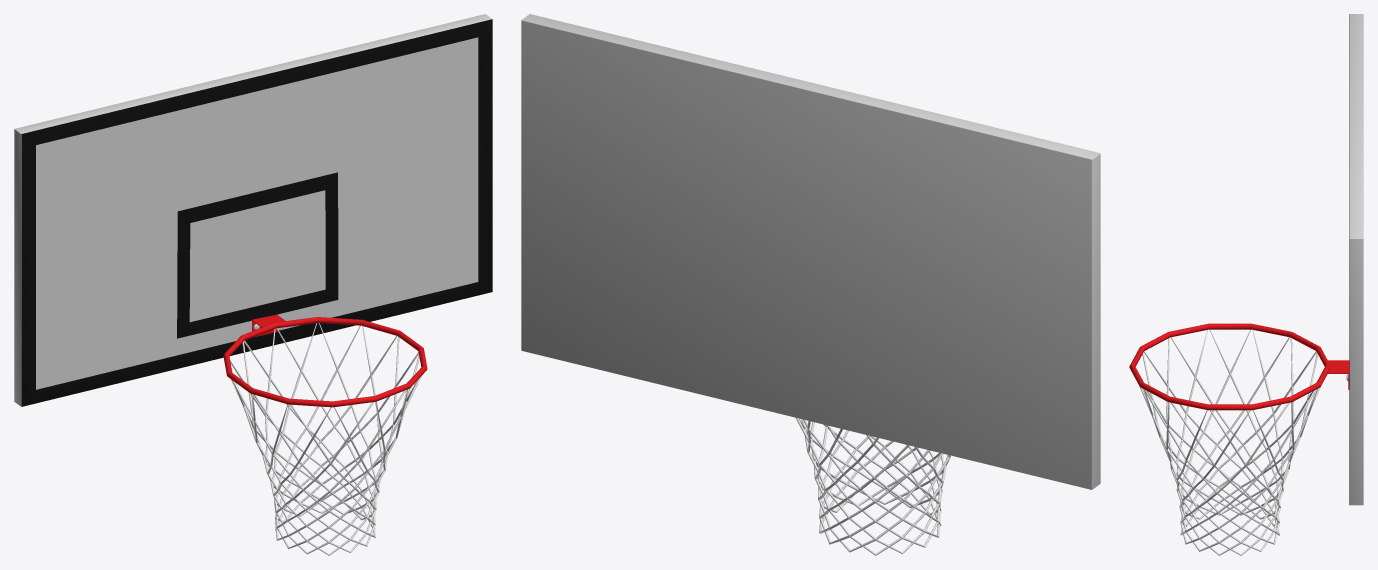
The model's file is Basket Ball net_06 (1).fbx.
The picture shows the model from 3 angles, left to right: view 1: azimuth 30°, elevation 25°; view 2: azimuth 150°, elevation 25°; view 3: azimuth 270°, elevation 25°; orthographic projection. The views are drawn at different scales.
Parts seen in each view (by area): view 1: Cube, Cylinder.002, Cylinder.003; view 2: Cube, Cylinder.002; view 3: Cylinder.002, Cube, Cylinder.003, Handle.
Part boxes in pixels (box(x1,y1,x2,y2)): Cube: box(14, 14, 492, 406); Cylinder.002: box(230, 323, 421, 555); Cylinder.003: box(223, 317, 427, 407); Cube: box(521, 14, 1100, 489); Cylinder.002: box(796, 418, 950, 555); Cylinder.002: box(1140, 329, 1320, 555); Cube: box(1349, 14, 1363, 505); Cylinder.003: box(1129, 323, 1330, 410); Handle: box(1327, 360, 1349, 389).
Bounding box in the file's own units: 94.41 × 79.48 × 41.54.
